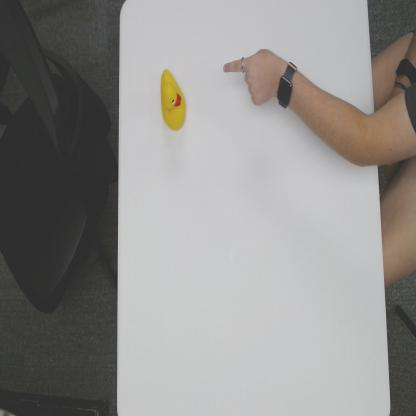Arm: (297, 72, 378, 169)
Duck: (158, 63, 188, 134)
Hand: (222, 46, 278, 108)
